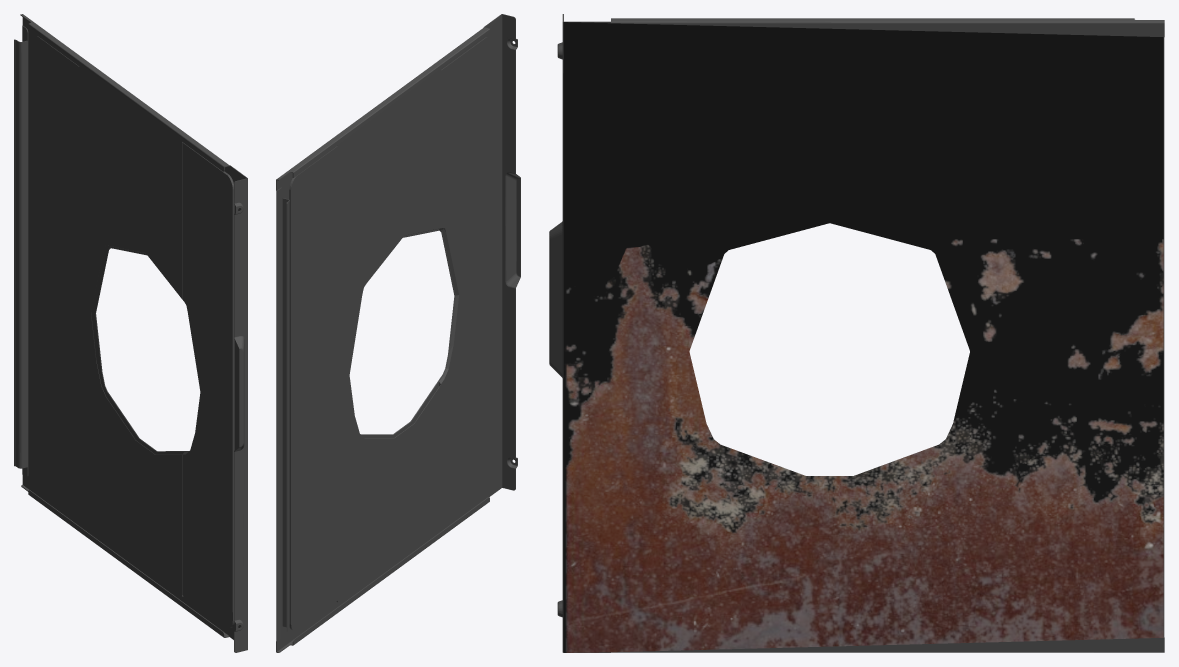
Rendered from PanelLewyDziura.fbx.
The picture shows the model from 3 angles, left to right: view 1: azimuth 30°, elevation 25°; view 2: azimuth 150°, elevation 25°; view 3: azimuth 270°, elevation 25°; orthographic projection. The views are drawn at different scales.
Parts seen in each view (by area): view 1: PanelLewy.001; view 2: PanelLewy.001; view 3: PanelLewy.001.
Part boxes in pixels (left/top/right/bottom): PanelLewy.001: left=14, top=14, right=247, bottom=652; PanelLewy.001: left=276, top=14, right=520, bottom=652; PanelLewy.001: left=549, top=14, right=1164, bottom=652.
Bounding box in the file's own units: 9.09 × 291 × 258.
